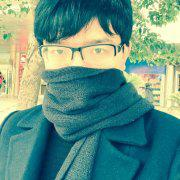WRONG: (44, 35, 118, 108)
